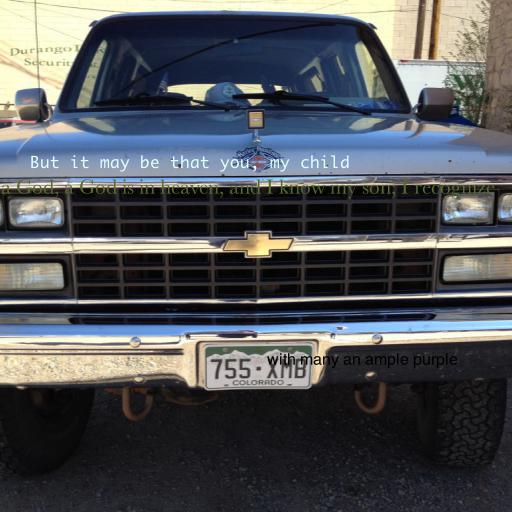Baskerville: (1, 179, 495, 199)
Impact: (266, 353, 458, 369)
Monaco: (30, 155, 350, 172)
